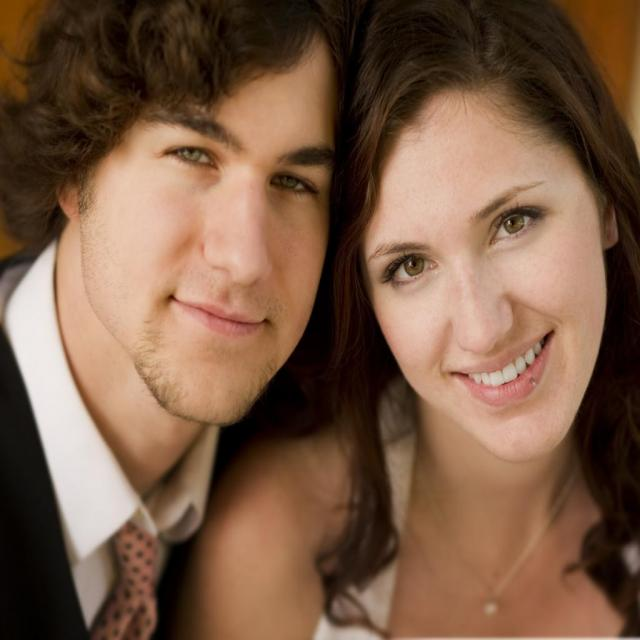nomask: (362, 102, 608, 460), (95, 58, 334, 423)
